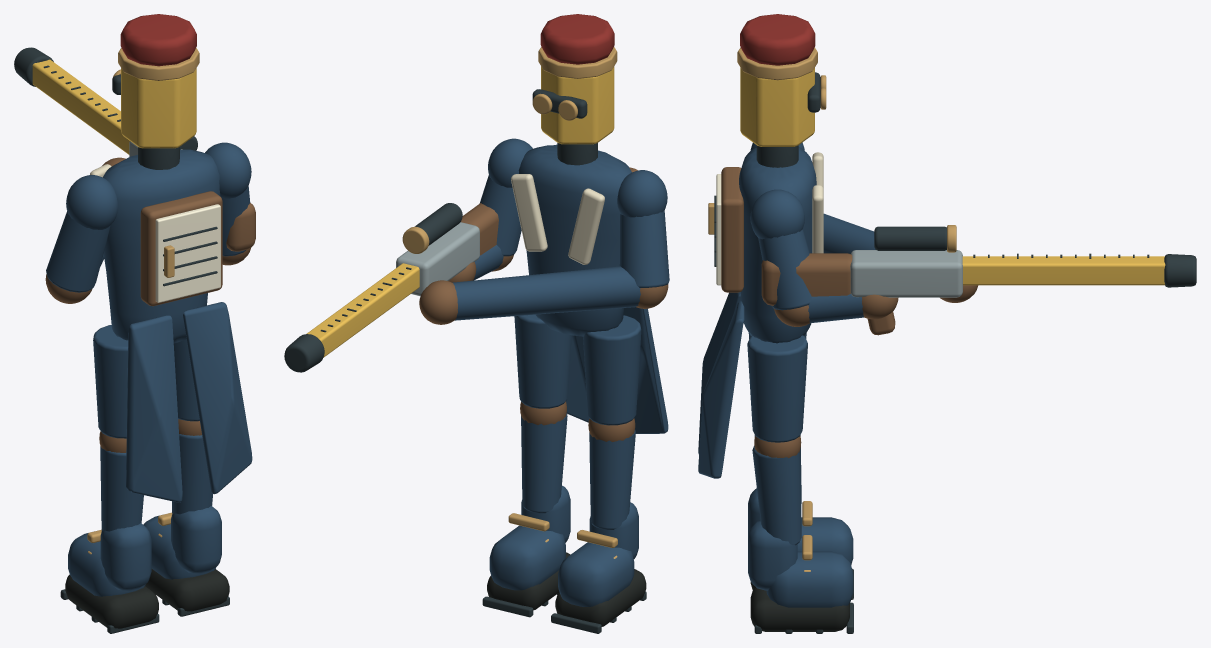
The picture shows the model from 3 angles, left to right: view 1: azimuth 30°, elevation 25°; view 2: azimuth 150°, elevation 25°; view 3: azimuth 270°, elevation 25°; orthographic projection. The views are drawn at different scales.
Parts seen in each view (by area): view 1: tailored_auditor_coat, folded_split_tail_001, folded_split_tail, foot_l, foot_r, pencil_head, folio_paper_edge, tapered_thigh_001, eraser_cap, upper_sleeve_001, ruler_barrel, back_audit_folio (+12 smaller); view 2: tailored_auditor_coat, foot_l, forearm_001, foot_r, tapered_thigh_001, tapered_thigh, pencil_head, shin_001, shin, ruler_barrel, upper_sleeve_001, eraser_cap (+19 smaller); view 3: foot_r, tailored_auditor_coat, ruler_barrel, tapered_thigh, precision_receiver, pencil_head, folded_split_tail, shin, eraser_cap, rifle_stock, back_audit_folio, upper_sleeve (+12 smaller).
Part boxes in pixels (x1,y1,x2,y2): tailored_auditor_coat: (103,149,220,343); folded_split_tail_001: (126,315,182,502); folded_split_tail: (183,302,252,494); foot_l: (60,523,159,633); foot_r: (143,506,229,616); pencil_head: (121,68,196,148); folio_paper_edge: (155,204,220,302); tapered_thigh_001: (93,325,128,438); eraser_cap: (120,14,196,66); upper_sleeve_001: (46,211,110,292); ruler_barrel: (32,59,129,154); back_audit_folio: (140,191,222,306); tailored_auditor_coat: (518,144,631,336); foot_l: (551,502,646,633); forearm_001: (452,266,640,320); foot_r: (482,485,570,617); tapered_thigh_001: (583,315,641,425); tapered_thigh: (514,314,571,408); pencil_head: (541,66,614,144); shin_001: (589,429,635,529); shin: (521,413,567,513); ruler_barrel: (306,263,419,357); upper_sleeve_001: (619,211,669,287); eraser_cap: (540,14,614,64); foot_r: (748,520,853,633); tailored_auditor_coat: (739,147,816,343); ruler_barrel: (962,256,1165,285); tapered_thigh: (747,335,807,442); precision_receiver: (850,250,962,297); pencil_head: (740,67,814,146); folded_split_tail: (698,301,744,478); shin: (752,445,801,545); eraser_cap: (740,14,815,65); rifle_stock: (761,253,852,305); back_audit_folio: (721,167,743,292); upper_sleeve: (758,228,811,310).
Bounding box in the file's own units: 0.7109 × 1.99 × 1.55.
